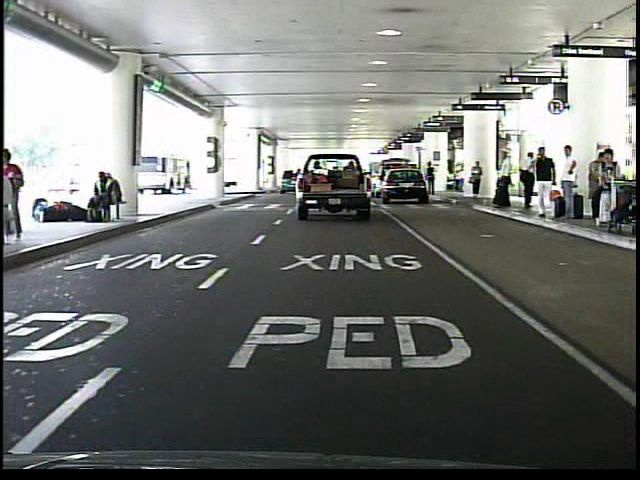person: (558, 140, 585, 229), (532, 144, 559, 222), (491, 149, 516, 214), (468, 160, 485, 202), (425, 160, 438, 198)
